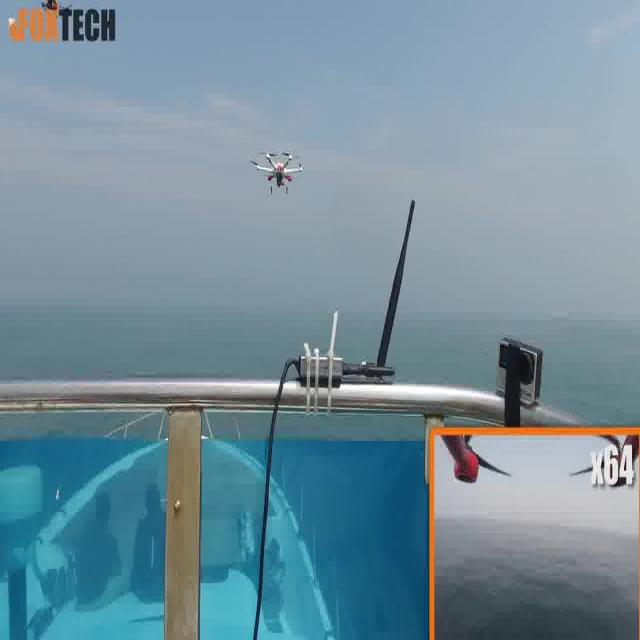drone: (246, 148, 306, 196)
